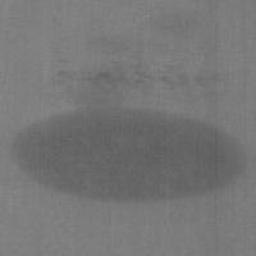Oil spot: (8, 61, 251, 206)
